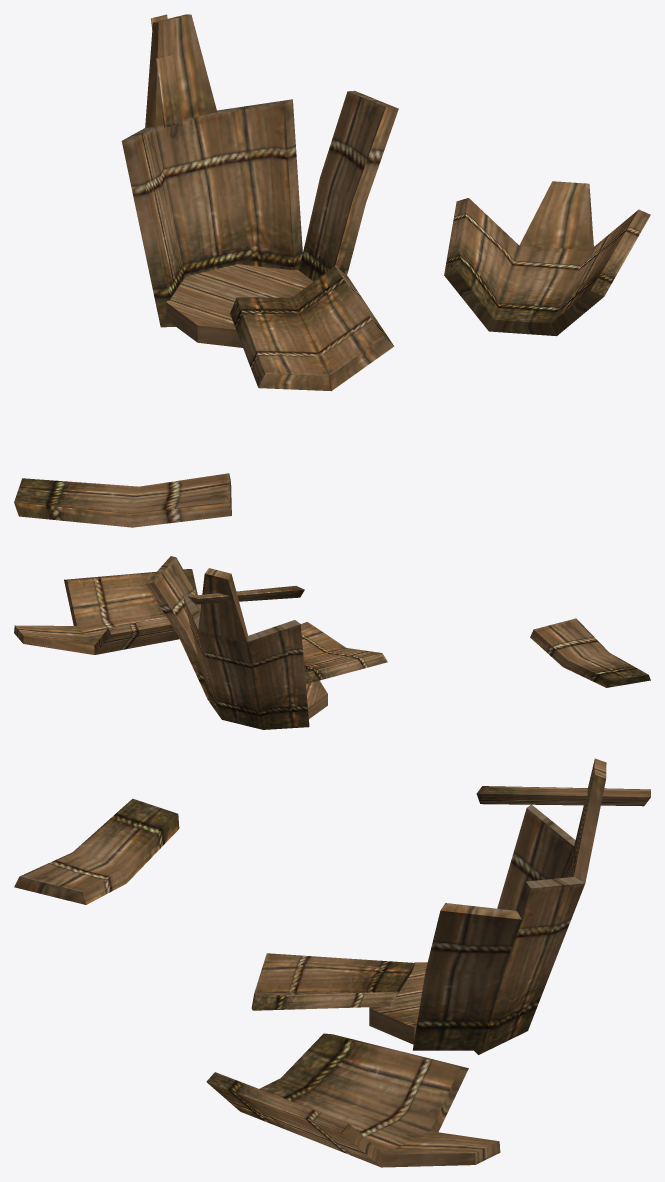
File: powujian_yc_21.fbx
3 renders of one model, top to bottom at view 1: azimuth 30°, elevation 25°; view 2: azimuth 150°, elevation 25°; view 3: azimuth 270°, elevation 25°, orthographic. The views are drawn at different scales.
Parts seen in each view (by area): view 1: powujian_yc_21; view 2: powujian_yc_21; view 3: powujian_yc_21.
Part boxes in pixels (x1,y1,x2,y2): powujian_yc_21: (14, 14, 650, 527); powujian_yc_21: (14, 556, 650, 729); powujian_yc_21: (14, 758, 650, 1167).
Size of what is drawn, in the model's own units: 211 by 67.52 by 154.
